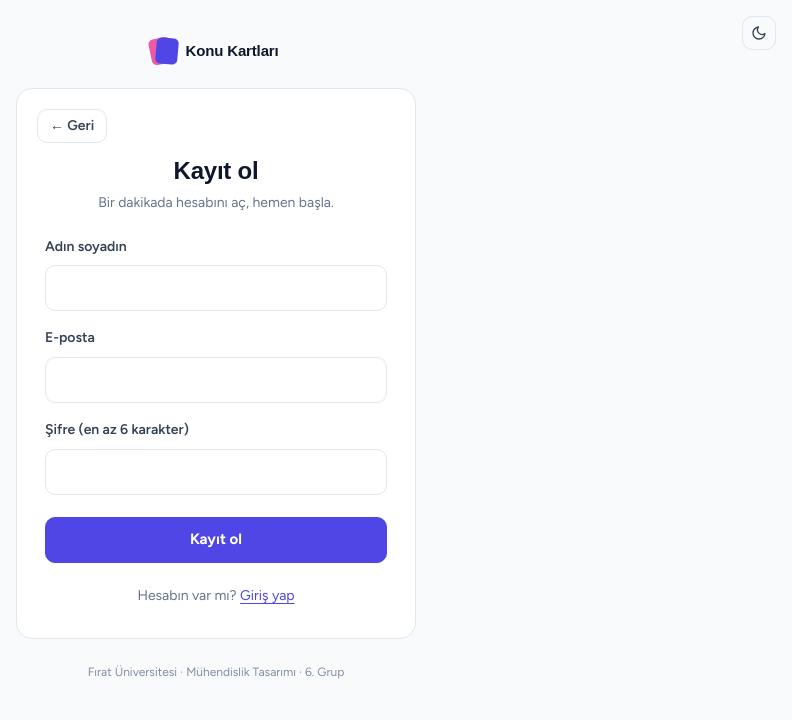
Test: Kayıt › e-posta zaten kayıtlıysa sunucunun mesajını gösterir, ekranda kalır
In the field labelled "Adın soyadın": point(216, 288) [45,265,387,311], type "Ayşe Yılmaz"
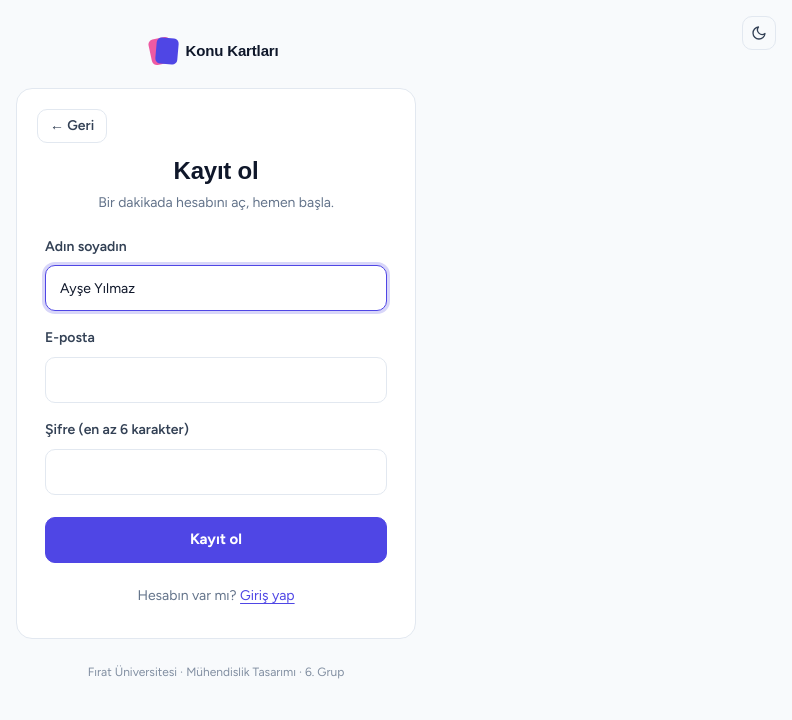
In the field labelled "E-posta": point(216, 380) [45,357,387,403], type "ayse@ornek.com"
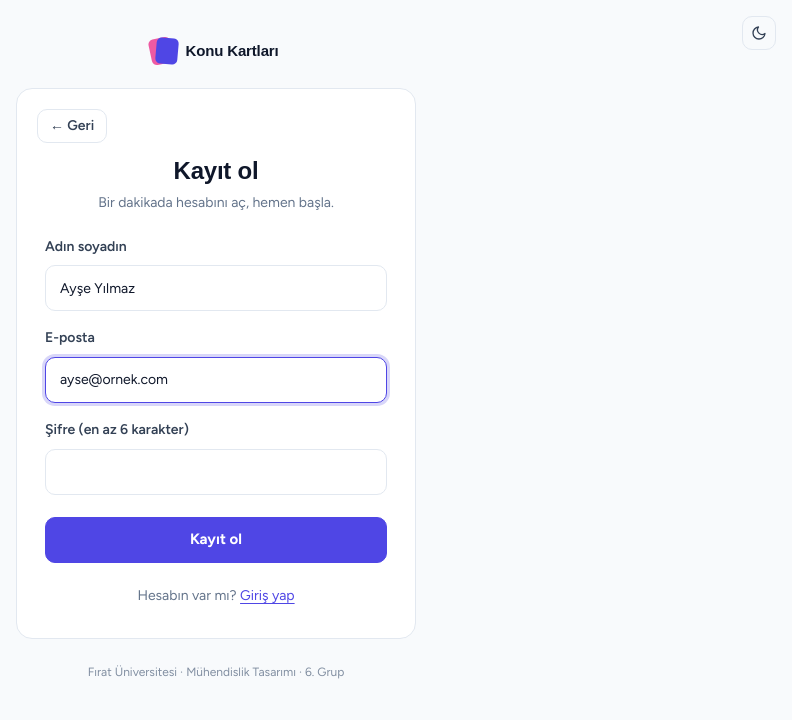
In the password field labelled "Şifre (en az 6 karakter)": point(216, 472) [45,449,387,495], type "gizli123"
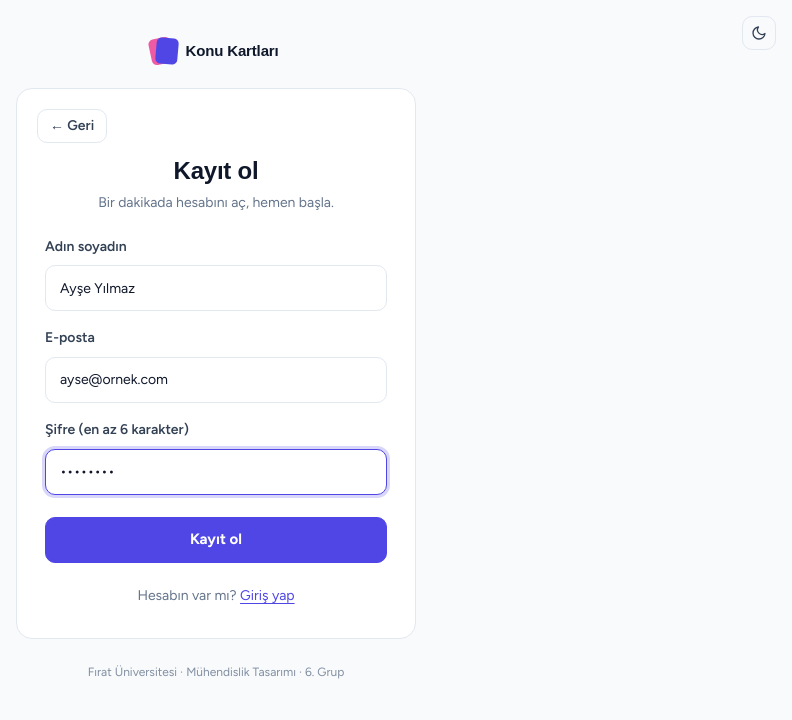
Click the button "Kayıt ol": point(216, 540) [45,517,387,563]
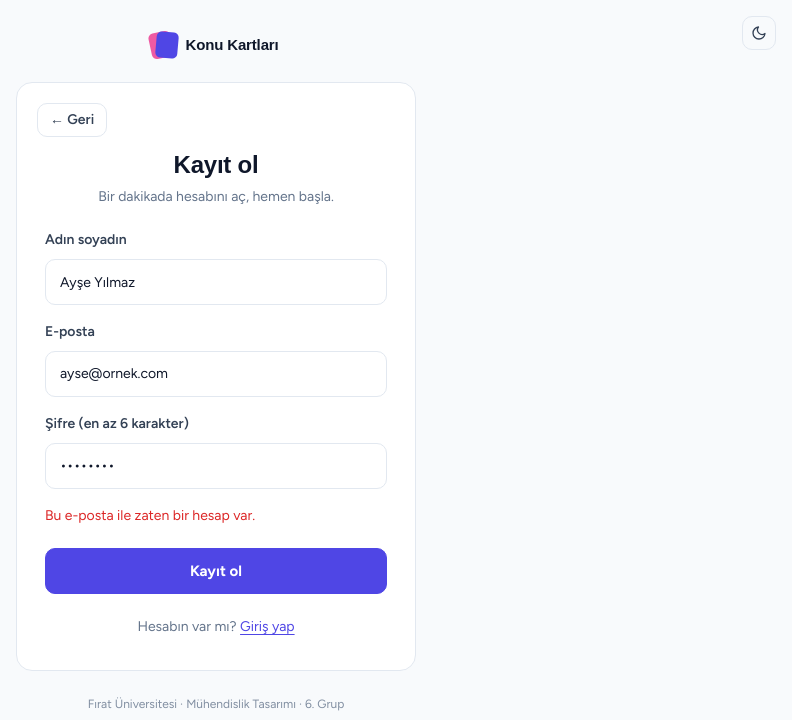
Expected: the heading "Kayıt ol" is shown, [174,151,258,178]
Expected: the message reads "Bu e-posta ile zaten bir hesap var.", [45,506,255,524]
